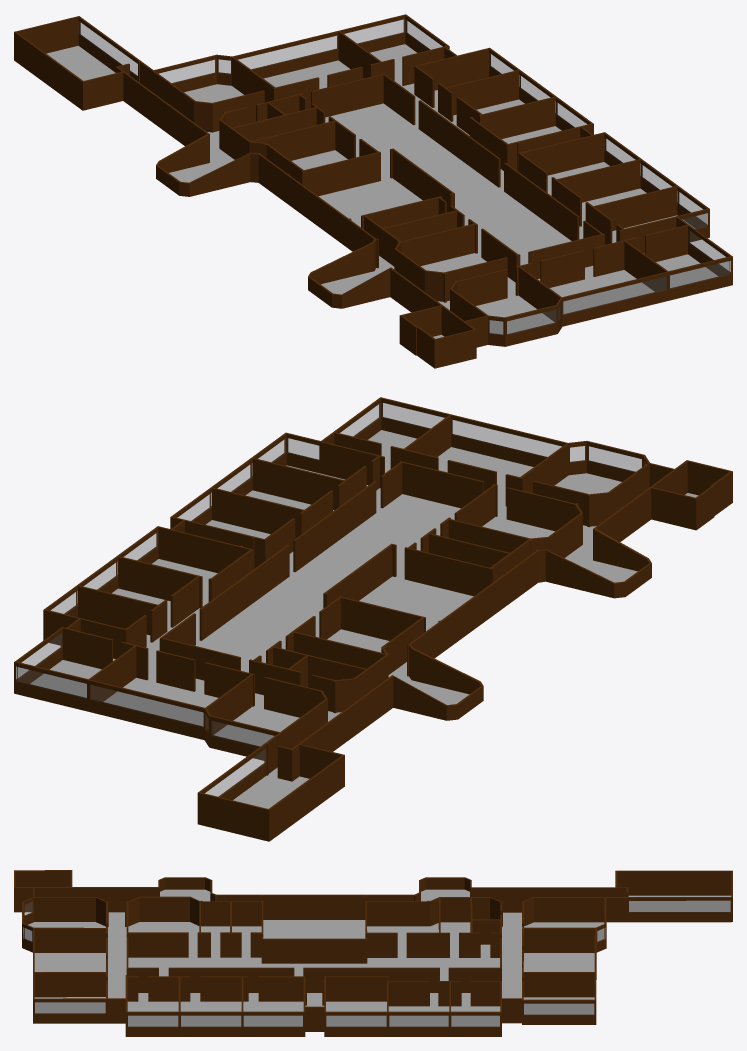
The picture shows the model from 3 angles, top to bottom: view 1: azimuth 30°, elevation 25°; view 2: azimuth 150°, elevation 25°; view 3: azimuth 270°, elevation 25°; orthographic projection. The views are drawn at different scales.
Parts seen in each view (by area): view 1: Plane.026, Plane.009; view 2: Plane.026, Plane.009; view 3: Plane.026, Plane.009.
Boxes of the visible parts, box(x1,y1,x2,y2) form: Plane.026: box(14, 14, 732, 368); Plane.009: box(46, 44, 717, 338); Plane.026: box(14, 397, 732, 841); Plane.009: box(30, 430, 698, 808); Plane.026: box(14, 870, 732, 1036); Plane.009: box(23, 889, 731, 1026).
Size of the model in its own units: 39.07 by 3 by 80.11.
